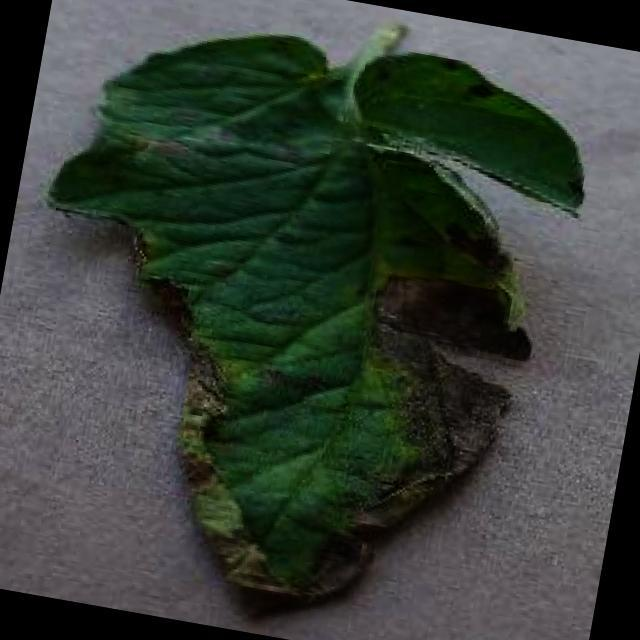Tomato Early blight leaf: (0, 0, 606, 639)
